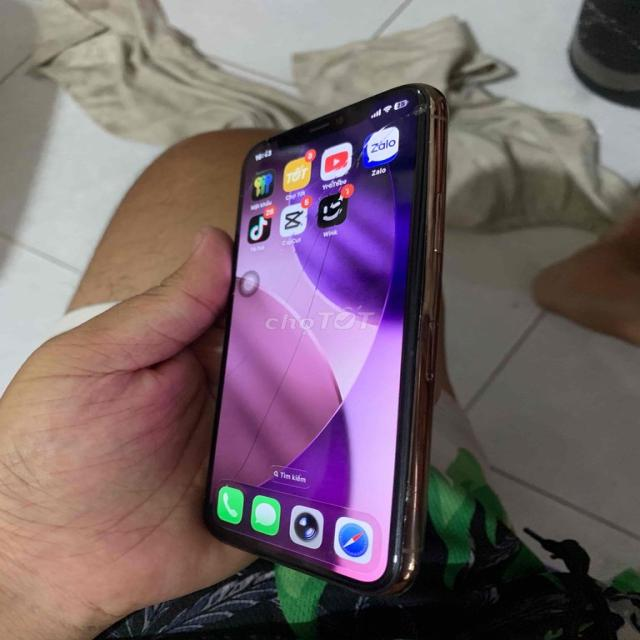physical_damage: (224, 100, 429, 524)
scratch: (387, 452, 422, 577)
